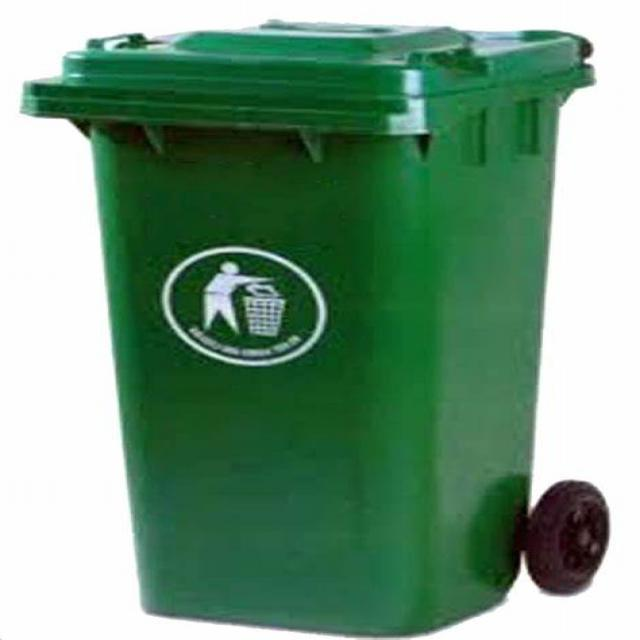garbage container: (35, 22, 610, 640)
